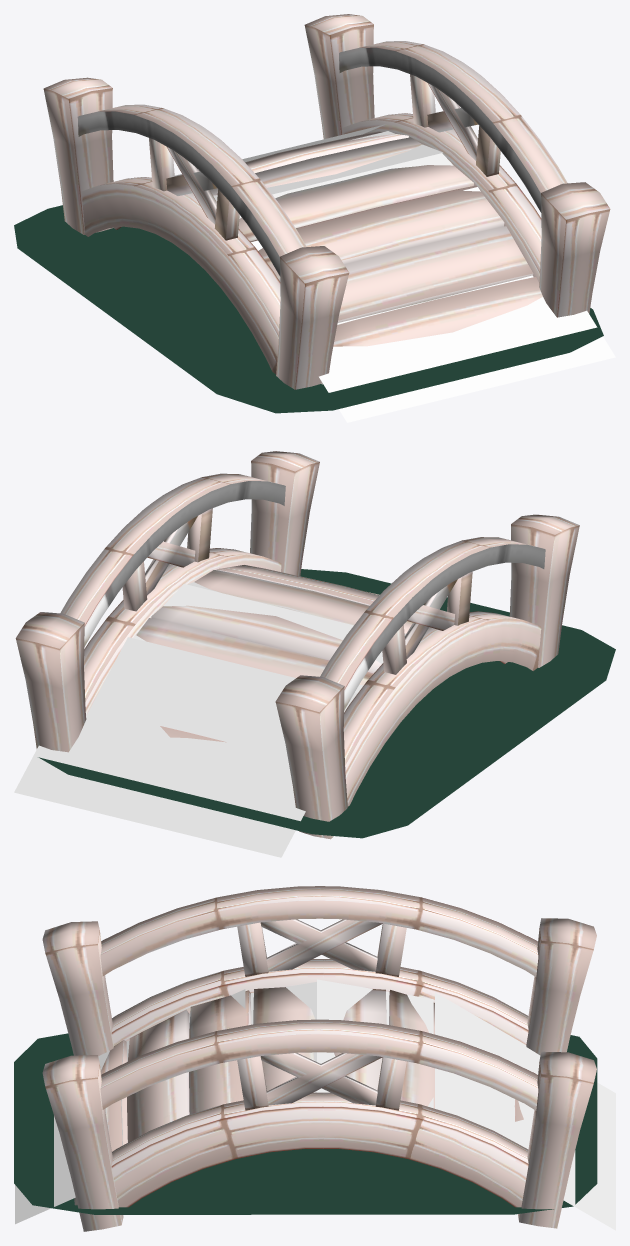
The model's file is BridgeWood03.fbx.
The picture shows the model from 3 angles, top to bottom: view 1: azimuth 30°, elevation 25°; view 2: azimuth 150°, elevation 25°; view 3: azimuth 270°, elevation 25°; orthographic projection. The views are drawn at different scales.
Parts seen in each view (by area): view 1: BridgeWood03, ShadowSquareDark2, WalkablePlane Bridge (2), WalkablePlane Bridge (4), WalkablePlane Bridge (3), WalkablePlane Bridge (1); view 2: BridgeWood03, WalkablePlane Bridge (1), ShadowSquareDark2, WalkablePlane Bridge (4); view 3: BridgeWood03, ShadowSquareDark2, WalkablePlane Bridge (1), WalkablePlane Bridge (4), WalkablePlane Bridge (2), WalkablePlane Bridge (3).
Boxes of the visible parts, box(x1,y1,x2,y2) form: BridgeWood03: box(43, 14, 610, 389); ShadowSquareDark2: box(14, 205, 603, 413); WalkablePlane Bridge (2): box(251, 187, 615, 422); WalkablePlane Bridge (4): box(213, 131, 442, 201); WalkablePlane Bridge (3): box(239, 153, 453, 218); WalkablePlane Bridge (1): box(174, 124, 386, 176); BridgeWood03: box(15, 451, 579, 839); WalkablePlane Bridge (1): box(14, 637, 357, 857); ShadowSquareDark2: box(38, 569, 615, 838); WalkablePlane Bridge (4): box(133, 584, 383, 692); BridgeWood03: box(42, 886, 596, 1231); ShadowSquareDark2: box(14, 1033, 597, 1214); WalkablePlane Bridge (1): box(435, 992, 615, 1230); WalkablePlane Bridge (4): box(317, 979, 433, 1108); WalkablePlane Bridge (2): box(15, 989, 245, 1224); WalkablePlane Bridge (3): box(250, 982, 316, 1092).
Bounding box in the file's own units: 2.75 × 1.34 × 3.7.
